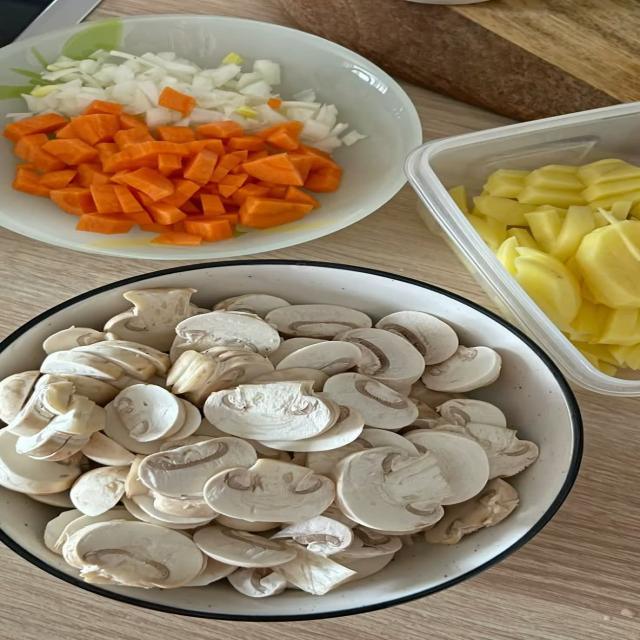carrot: (239, 197, 311, 229), (103, 141, 170, 172), (243, 153, 302, 185), (15, 134, 64, 172), (4, 114, 66, 142), (123, 167, 174, 201), (43, 138, 97, 165), (73, 114, 120, 145), (50, 186, 96, 215), (183, 150, 217, 185), (77, 214, 134, 234), (186, 217, 232, 241), (304, 165, 342, 193), (294, 144, 337, 168), (159, 87, 194, 116), (14, 169, 50, 197), (163, 179, 199, 207), (90, 184, 121, 213), (75, 163, 112, 187), (147, 202, 185, 225), (231, 183, 270, 205), (114, 128, 153, 150), (113, 185, 143, 213), (285, 154, 313, 184), (197, 120, 243, 138), (258, 120, 303, 138), (38, 169, 76, 190), (266, 127, 299, 151), (283, 186, 319, 208), (151, 231, 201, 246), (157, 126, 195, 143), (83, 100, 123, 115), (97, 143, 118, 170), (227, 136, 263, 151), (202, 193, 225, 215), (158, 154, 181, 176), (217, 153, 243, 172), (130, 186, 153, 206), (124, 210, 154, 225), (206, 213, 238, 227), (120, 114, 147, 130), (219, 173, 247, 188), (140, 223, 173, 233), (55, 123, 76, 138), (210, 166, 229, 182), (178, 200, 201, 213), (196, 183, 217, 197), (218, 183, 238, 197), (111, 170, 129, 185), (223, 199, 238, 213), (269, 186, 286, 198), (269, 98, 282, 109), (170, 150, 185, 158)
champignon mushrooms: (0, 289, 538, 596), (336, 447, 452, 531), (63, 521, 205, 588), (204, 459, 335, 522), (204, 382, 337, 440), (138, 437, 257, 498), (405, 430, 489, 504), (167, 347, 273, 405), (425, 479, 518, 544), (105, 288, 197, 351), (0, 429, 83, 494), (306, 429, 419, 476), (335, 329, 425, 388), (324, 373, 418, 429), (172, 311, 280, 359), (260, 407, 364, 452), (376, 311, 459, 365), (460, 423, 539, 478), (194, 525, 296, 567), (113, 385, 186, 441), (278, 542, 356, 594), (7, 376, 73, 435), (53, 507, 136, 553), (333, 528, 402, 582), (421, 346, 501, 392), (266, 305, 372, 339), (72, 342, 156, 381), (272, 516, 353, 555), (123, 495, 217, 528), (105, 401, 163, 454), (277, 341, 360, 376), (16, 421, 89, 460), (41, 350, 126, 383), (70, 467, 128, 515), (304, 438, 370, 476), (48, 395, 106, 436), (123, 497, 195, 530), (107, 340, 171, 375), (0, 371, 39, 423), (334, 549, 394, 582), (438, 399, 506, 427), (248, 368, 328, 391), (214, 294, 289, 318), (61, 375, 119, 406), (43, 326, 107, 354), (82, 432, 134, 466), (227, 568, 286, 597), (44, 509, 82, 552), (409, 381, 466, 409), (268, 338, 327, 365), (154, 494, 217, 519), (359, 429, 418, 455), (185, 558, 237, 587), (167, 399, 201, 440), (217, 515, 280, 532), (125, 455, 148, 498), (159, 435, 211, 451), (323, 504, 358, 527), (28, 491, 73, 508), (410, 396, 440, 420), (195, 418, 227, 438)
onion: (3, 35, 366, 151)
raw potatoes: (449, 157, 639, 388), (498, 247, 582, 332), (576, 220, 639, 307), (598, 308, 639, 344)
